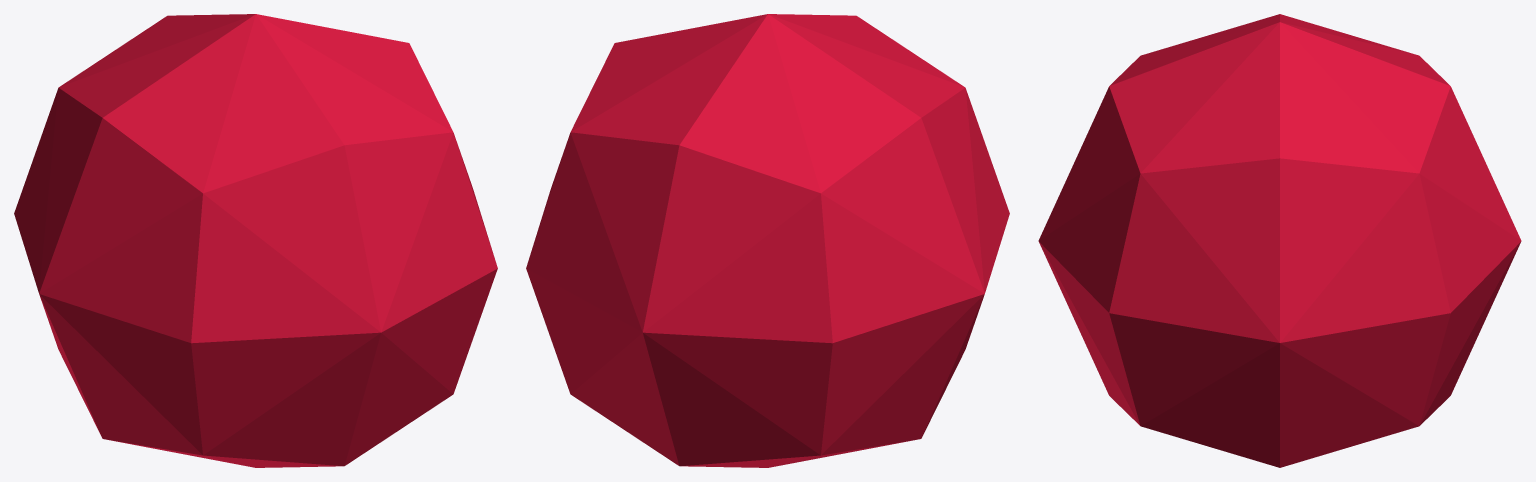
File: bouncyPackage.fbx
3 views of the same model, side by side, from view 1: azimuth 30°, elevation 25°; view 2: azimuth 150°, elevation 25°; view 3: azimuth 270°, elevation 25° (orthographic). The views are drawn at different scales.
Parts seen in each view (by area): view 1: BouncyBall; view 2: BouncyBall; view 3: BouncyBall.
Part boxes in pixels (bbox=[...]): BouncyBall: bbox=[14, 14, 497, 467]; BouncyBall: bbox=[526, 14, 1009, 467]; BouncyBall: bbox=[1038, 14, 1521, 467].
Bounding box in the file's own units: 100 × 100 × 100.
